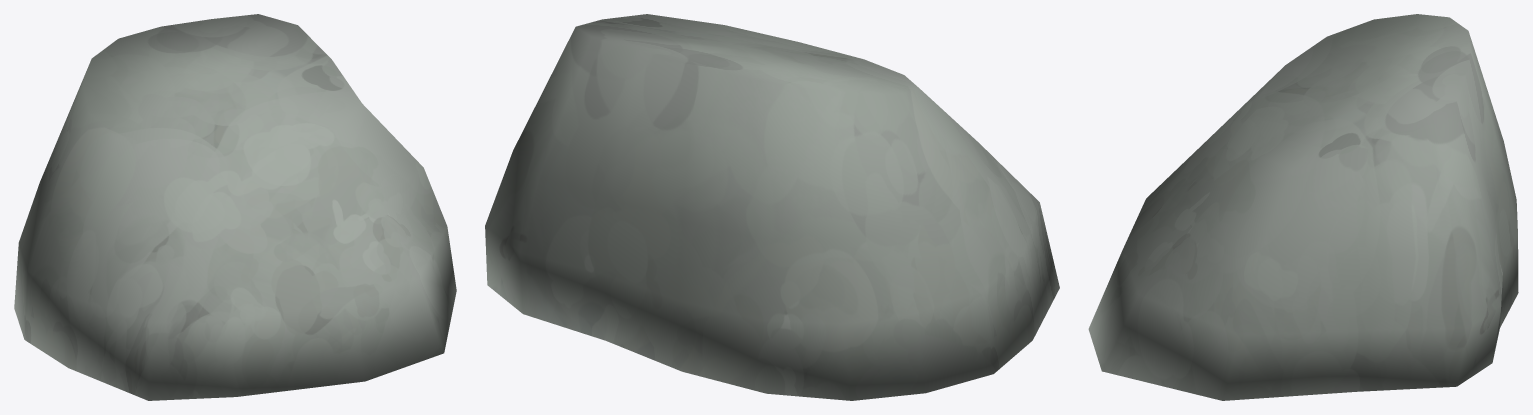
File: SM_Small_Rocks_02.fbx
3 renders of one model, left to right at view 1: azimuth 30°, elevation 25°; view 2: azimuth 150°, elevation 25°; view 3: azimuth 270°, elevation 25°, orthographic. The views are drawn at different scales.
Visible parts, largest first — view 1: Pedra.002; view 2: Pedra.002; view 3: Pedra.002.
Boxes of the visible parts, box(x1,y1,x2,y2) form: Pedra.002: box(14, 14, 456, 400); Pedra.002: box(485, 14, 1059, 400); Pedra.002: box(1088, 14, 1518, 400).
Bounding box in the file's own units: 821 × 507 × 754.
Materials: 1 (1 with a texture image).
